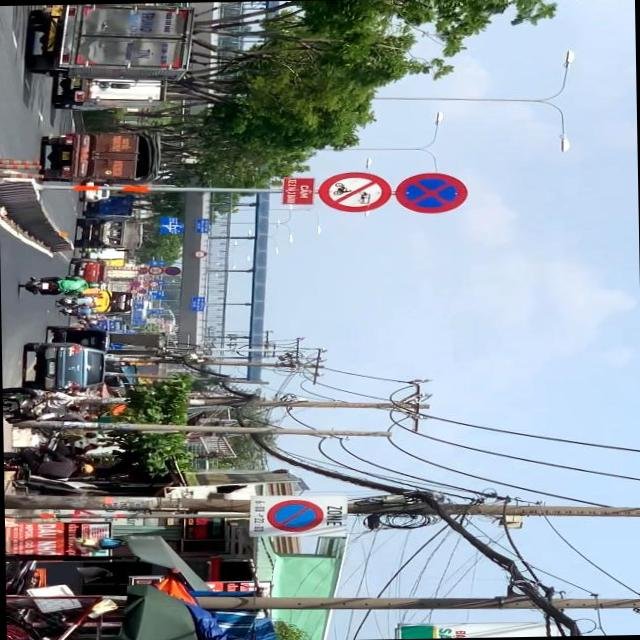P-104: (318, 172, 392, 212)
P-130: (396, 172, 469, 214)
P-131a: (263, 497, 322, 536)
